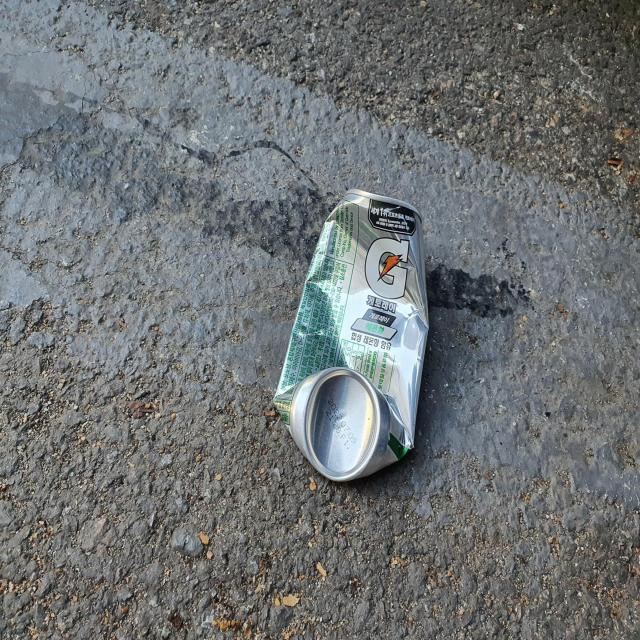can: (274, 188, 429, 482)
